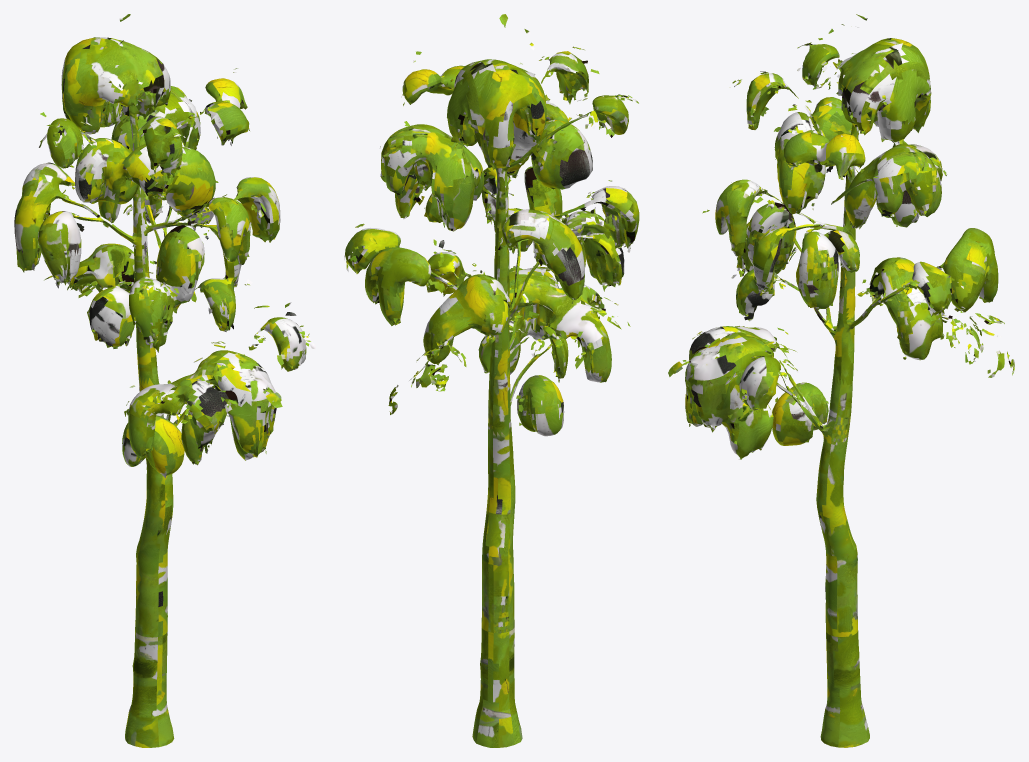
Rendered from veg_tree_birch_01.obj.
3 renders of one model, left to right at view 1: azimuth 30°, elevation 25°; view 2: azimuth 150°, elevation 25°; view 3: azimuth 270°, elevation 25°, orthographic.
Visible parts, largest first — view 1: veg_tree_birch_01; view 2: veg_tree_birch_01; view 3: veg_tree_birch_01.
Part boxes in pixels (x1,y1,x2,y2): veg_tree_birch_01: (14,14,315,747); veg_tree_birch_01: (344,14,639,747); veg_tree_birch_01: (668,14,1014,747).
Size of the model in its own units: 7.19 by 20.52 by 9.
Materials: 1 (1 with a texture image).
